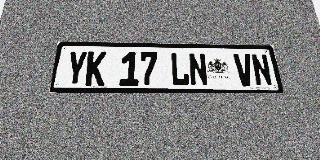1: (119, 52, 139, 86)
7: (139, 52, 158, 86)
K: (85, 51, 107, 86)
L: (170, 52, 190, 86)
N: (250, 53, 273, 86), (188, 53, 208, 86)
V: (233, 53, 255, 86)
Y: (64, 51, 88, 86)
